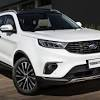Ford: (1, 10, 99, 94)
